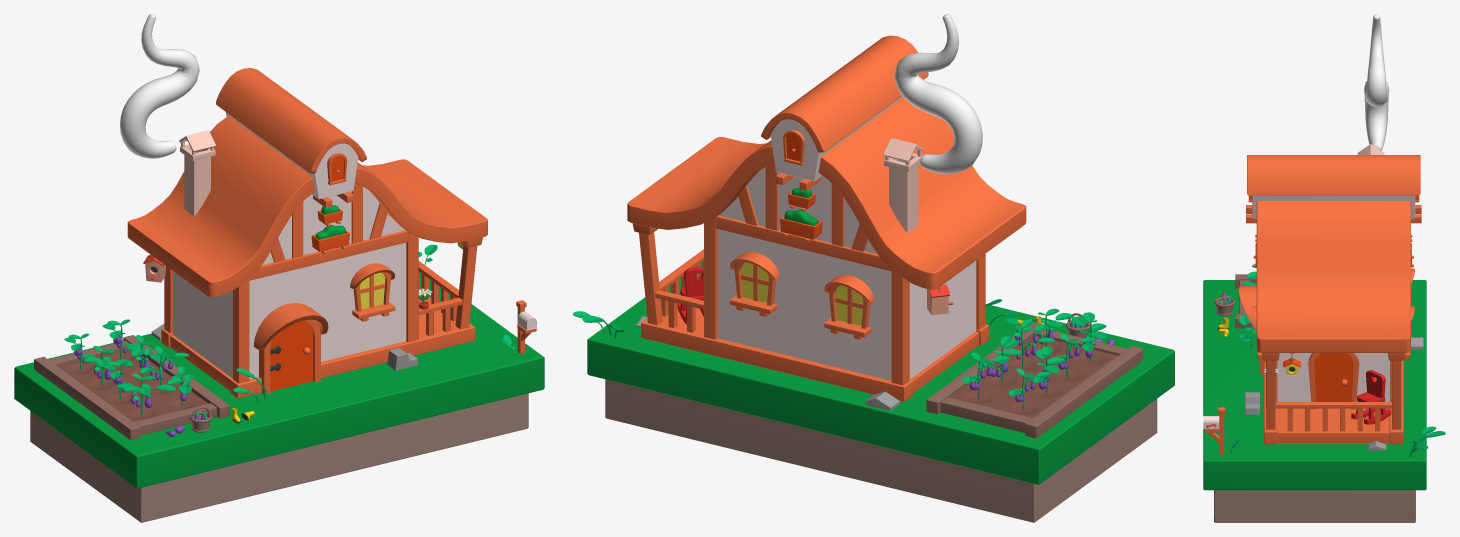
The model's file is Farm_Island_11.glb.
The picture shows the model from 3 angles, left to right: view 1: azimuth 30°, elevation 25°; view 2: azimuth 150°, elevation 25°; view 3: azimuth 270°, elevation 25°; orthographic projection. The views are drawn at different scales.
Parts seen in each view (by area): view 1: Farm_11_House_1, Farm_11_Base_1, Farm_11_Garden_1, Farm_11_Smoke_1, Farm_11_Wall_Plant_2, Farm_11_Eggplant_Bush_7, Farm_11_Mail_Box_1; view 2: Farm_11_House_1, Farm_11_Base_1, Farm_11_Garden_1, Farm_11_Smoke_1, Farm_11_Wall_Plant_4, Farm_11_Chair_1; view 3: Farm_11_House_1, Farm_11_Base_1, Farm_11_Smoke_1, Farm_11_Chair_1, Farm_11_Mail_Box_1, Farm_11_Garden_1, Farm_11_Stone_1, Farm_11_Basket_1.
Boxes of the visible parts, <box> form: Farm_11_House_1: <box>127,68,487,398</box>; Farm_11_Base_1: <box>14,272,544,522</box>; Farm_11_Garden_1: <box>34,335,229,440</box>; Farm_11_Smoke_1: <box>120,14,199,158</box>; Farm_11_Wall_Plant_2: <box>311,225,349,254</box>; Farm_11_Eggplant_Bush_7: <box>116,374,175,414</box>; Farm_11_Mail_Box_1: <box>516,300,536,353</box>; Farm_11_House_1: <box>627,35,1026,401</box>; Farm_11_Base_1: <box>587,262,1174,522</box>; Farm_11_Garden_1: <box>926,322,1143,438</box>; Farm_11_Smoke_1: <box>894,14,982,174</box>; Farm_11_Wall_Plant_4: <box>780,209,822,241</box>; Farm_11_Chair_1: <box>677,267,703,324</box>; Farm_11_House_1: <box>1238,144,1421,444</box>; Farm_11_Base_1: <box>1203,280,1426,522</box>; Farm_11_Smoke_1: <box>1364,14,1389,150</box>; Farm_11_Chair_1: <box>1351,370,1391,424</box>; Farm_11_Mail_Box_1: <box>1203,407,1225,455</box>; Farm_11_Garden_1: <box>1235,274,1256,328</box>; Farm_11_Stone_1: <box>1245,392,1260,414</box>; Farm_11_Basket_1: <box>1214,291,1234,315</box>.
Bounding box in the file's own units: 15.2 × 14.44 × 8.33.
40 materials, 40 textured.
